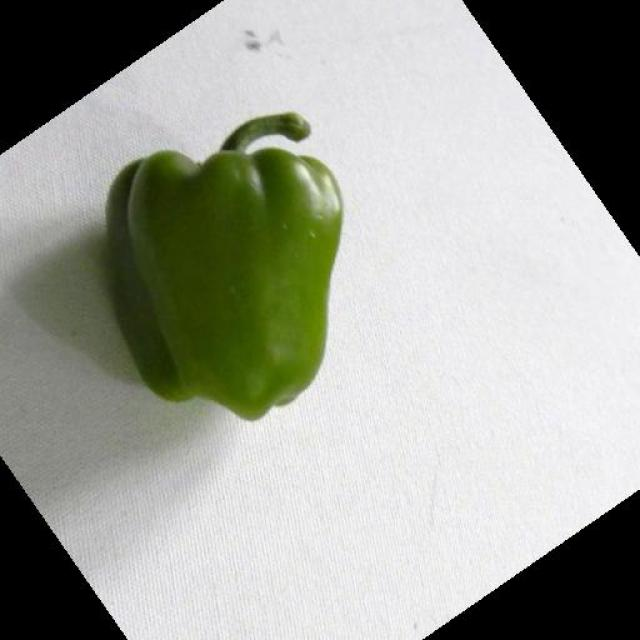Fresh_Capsicum: (121, 111, 357, 418)
